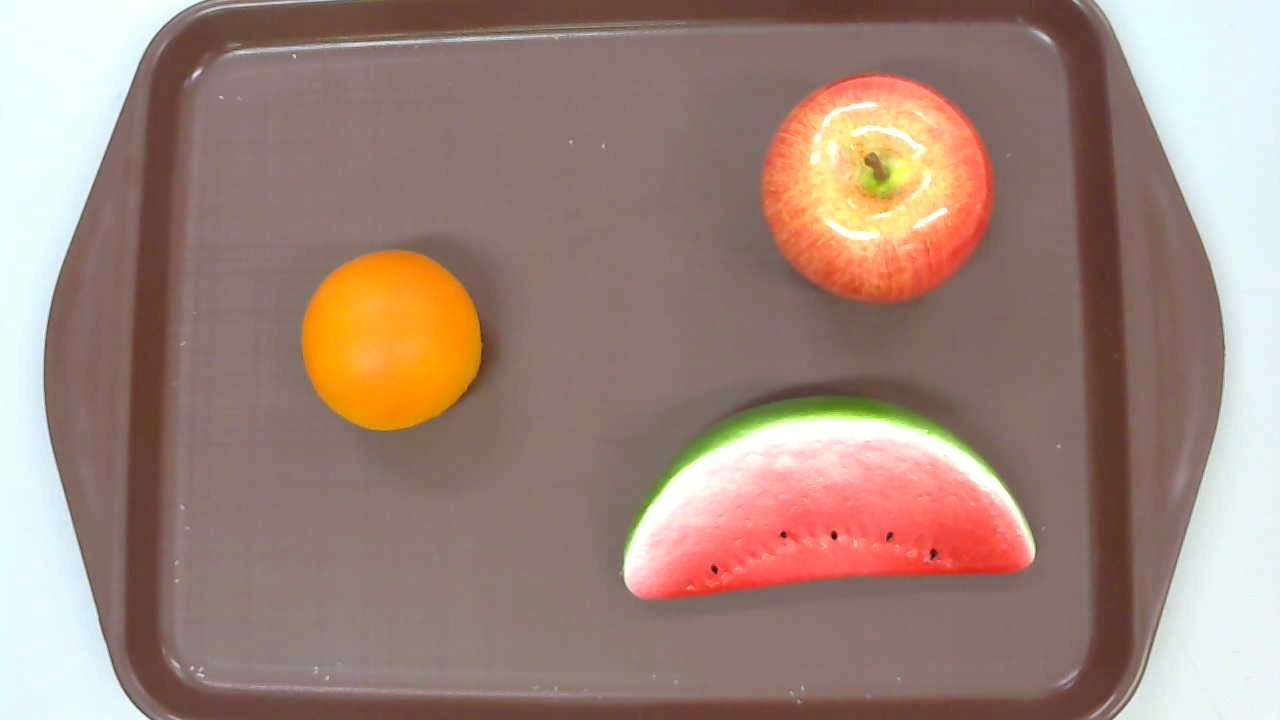bun: (301, 249, 481, 430)
red apple: (761, 72, 993, 303)
water melon: (620, 395, 1035, 600)
